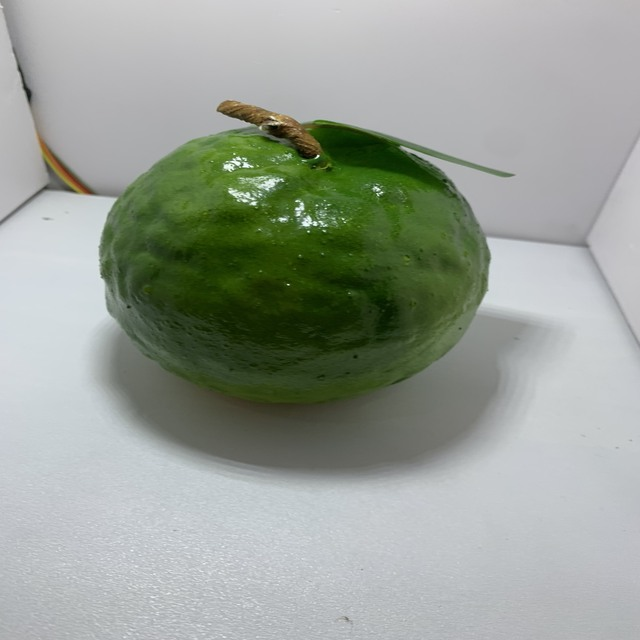Cam xanh: (91, 93, 502, 411)
